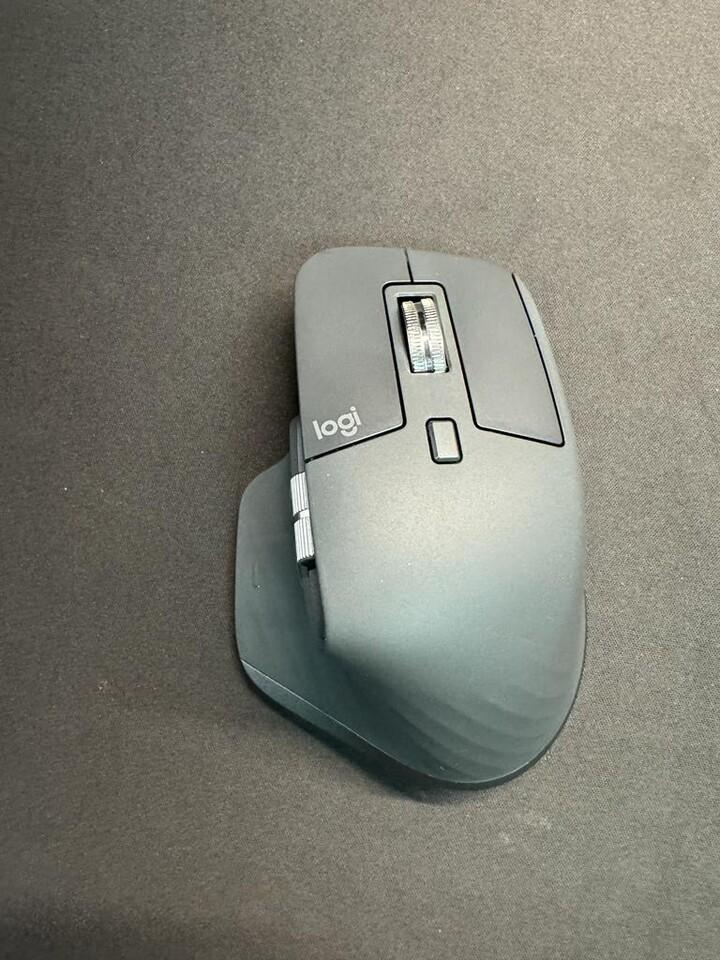mouse: (232, 243, 588, 791)
